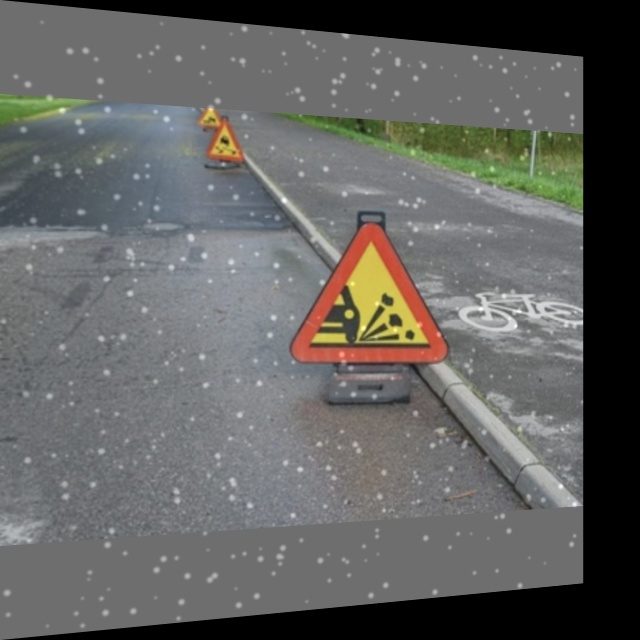Loose_Gravel: (301, 216, 442, 362)
